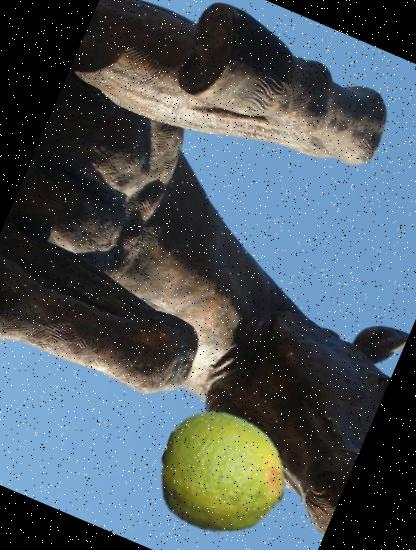Limes: (138, 391, 306, 550)
